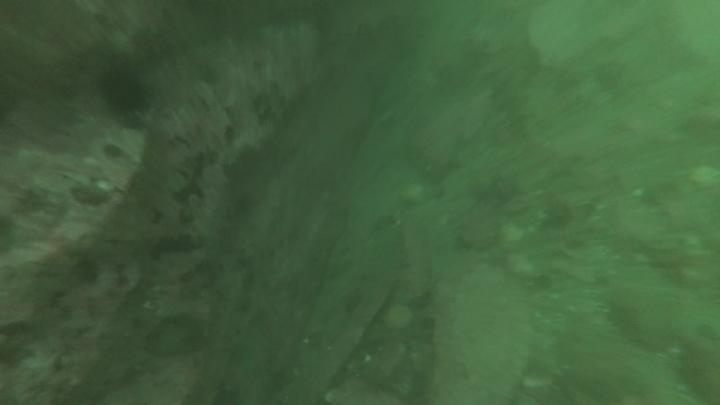echinus: (95, 63, 152, 118)
